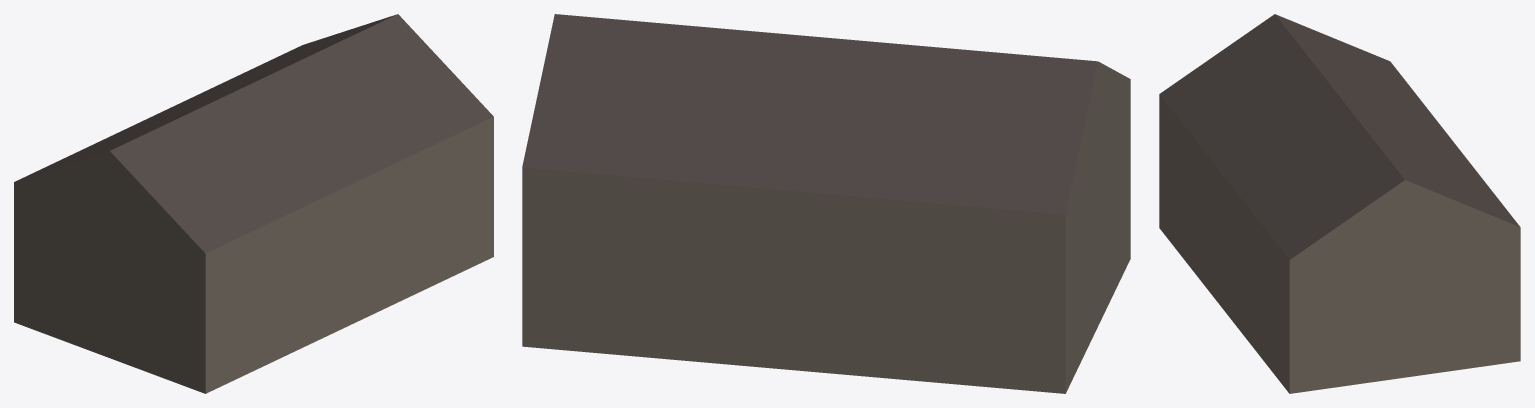
3 renders of one model, left to right at view 1: azimuth 30°, elevation 25°; view 2: azimuth 150°, elevation 25°; view 3: azimuth 270°, elevation 25°, orthographic. The views are drawn at different scales.
Parts seen in each view (by area): view 1: HP-w372180452; view 2: HP-w372180452; view 3: HP-w372180452.
Part boxes in pixels (left/top/right/bottom): HP-w372180452: left=14, top=14, right=493, bottom=393; HP-w372180452: left=522, top=14, right=1130, bottom=393; HP-w372180452: left=1159, top=14, right=1520, bottom=393.
Bounding box in the file's own units: 28.65 × 13.29 × 22.02.
